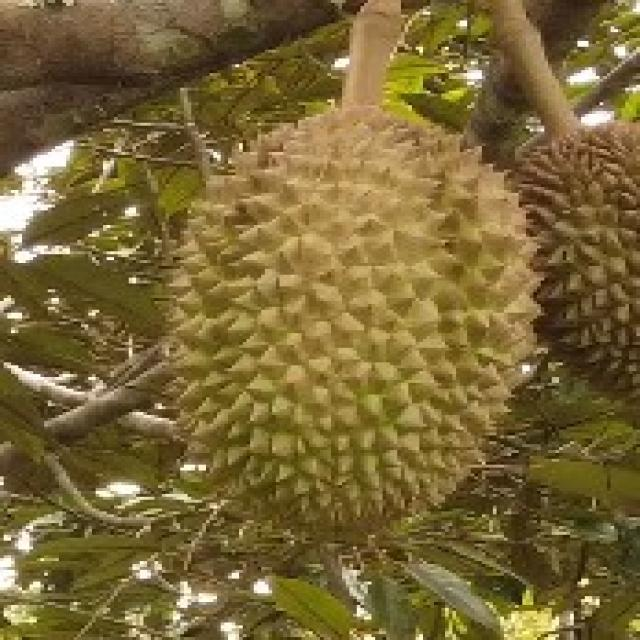mature: (155, 109, 544, 527)
